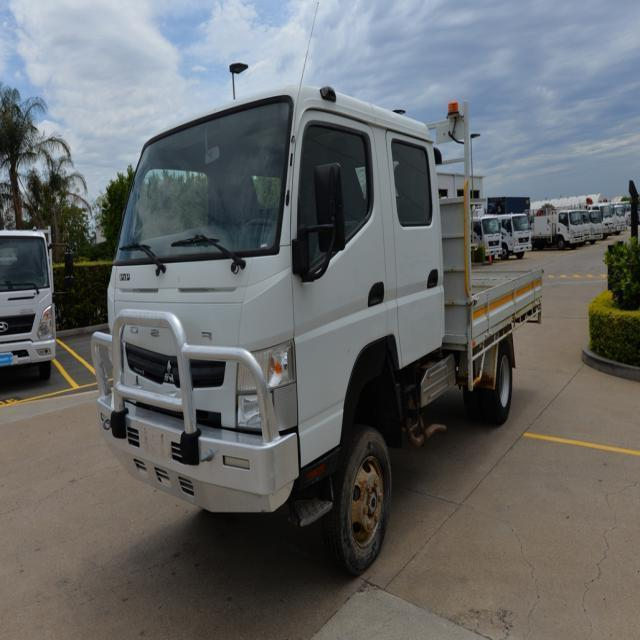truck: (60, 62, 578, 609)
